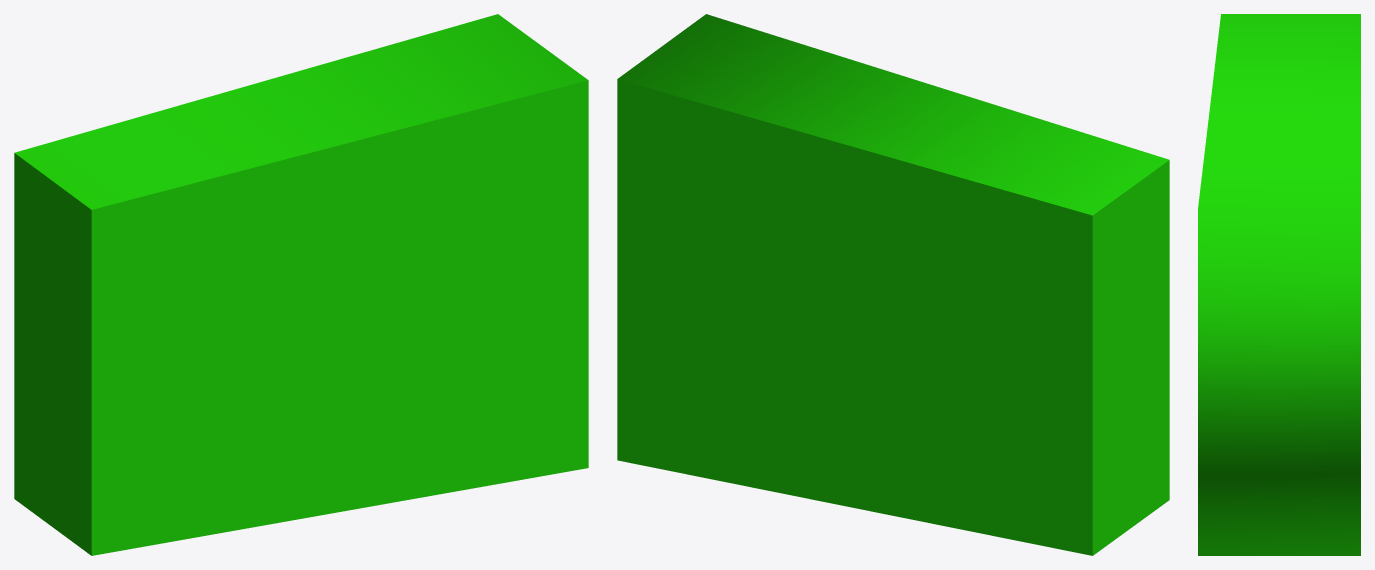
The model's file is SM_Teapot_01_Button_01_Collider.fbx.
3 views of the same model, side by side, from view 1: azimuth 30°, elevation 25°; view 2: azimuth 150°, elevation 25°; view 3: azimuth 270°, elevation 25° (orthographic). The views are drawn at different scales.
Visible parts, largest first — view 1: SM_Teapot_01_Button_01_Collider; view 2: SM_Teapot_01_Button_01_Collider; view 3: SM_Teapot_01_Button_01_Collider.
Part boxes in pixels (x1=…): SM_Teapot_01_Button_01_Collider: x1=14, y1=14, x2=588, y2=555; SM_Teapot_01_Button_01_Collider: x1=617, y1=14, x2=1169, y2=555; SM_Teapot_01_Button_01_Collider: x1=1198, y1=14, x2=1360, y2=555.
Size of the model in its own units: 3.76 by 2.88 by 1.22.
